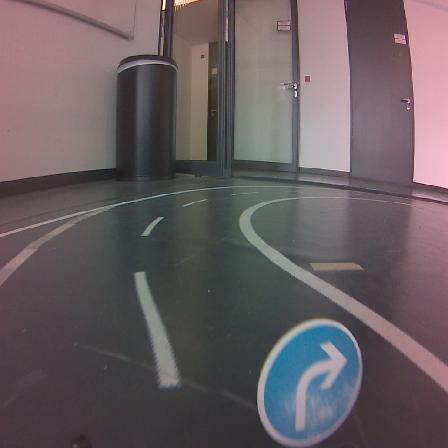RIGHT_TURN: (257, 319, 361, 446)
